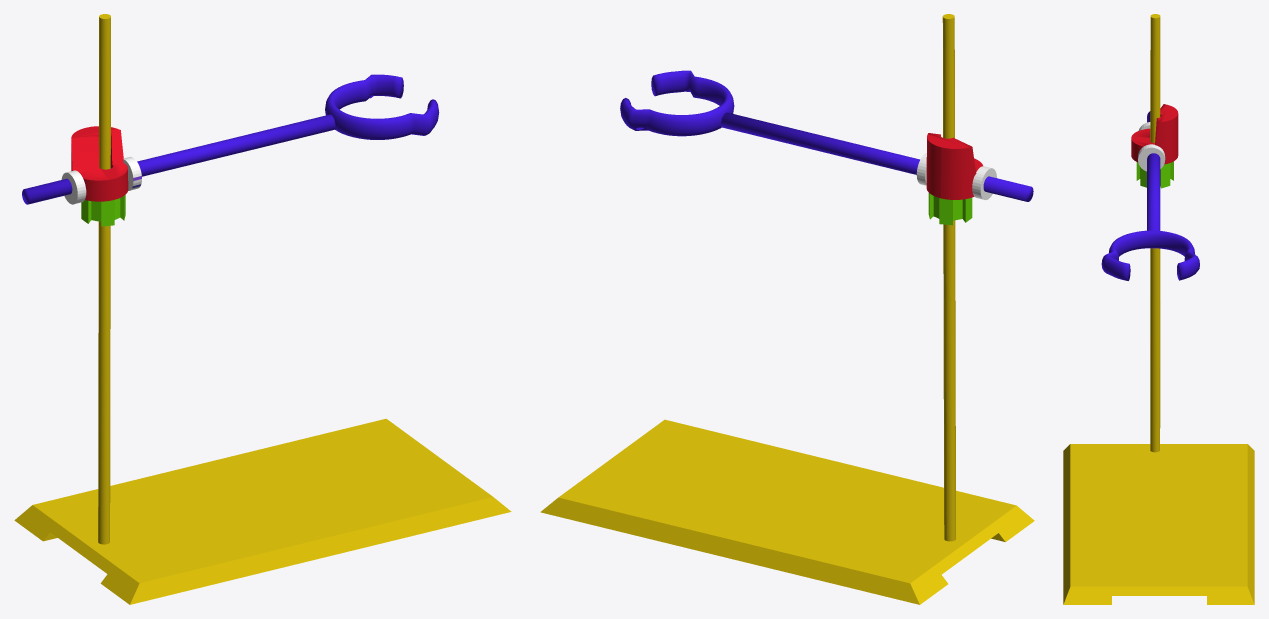
The model's file is ringstand.glb.
The picture shows the model from 3 angles, left to right: view 1: azimuth 30°, elevation 25°; view 2: azimuth 150°, elevation 25°; view 3: azimuth 270°, elevation 25°; orthographic projection. The views are drawn at different scales.
Parts seen in each view (by area): view 1: Cylinder; view 2: Cylinder; view 3: Cylinder.
Boxes of the visible parts, x1,y1,x2,y2 form: Cylinder: (14,14,511,604); Cylinder: (540,14,1034,604); Cylinder: (1063,14,1254,604).
Bounding box in the file's own units: 0.2109 × 0.2526 × 0.0979.
